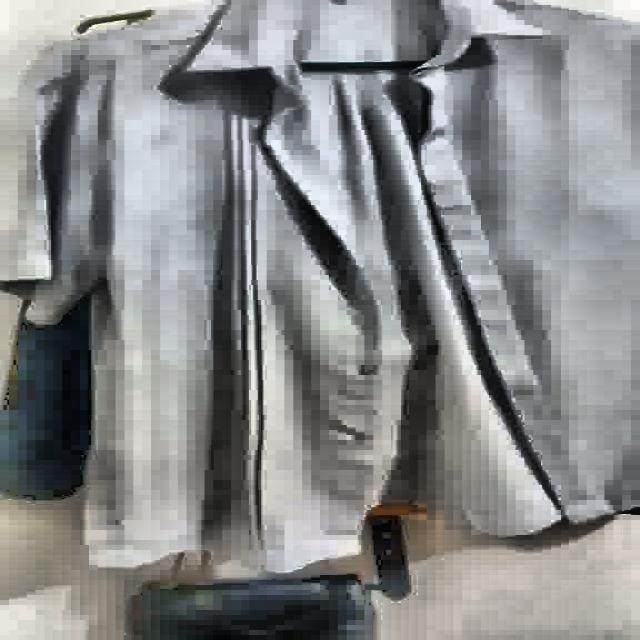clothes: (9, 0, 634, 586)
